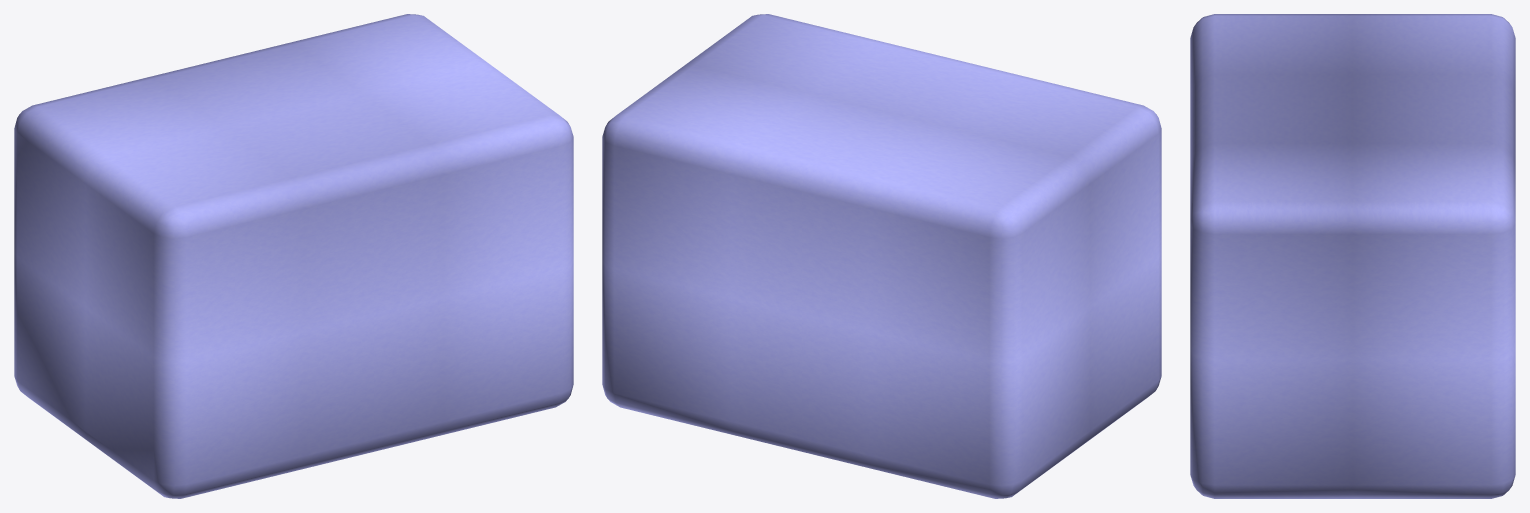
Rendered from __clay_block_01_4.obj.
3 renders of one model, left to right at view 1: azimuth 30°, elevation 25°; view 2: azimuth 150°, elevation 25°; view 3: azimuth 270°, elevation 25°, orthographic.
Parts seen in each view (by area): view 1: clay_block_4; view 2: clay_block_4; view 3: clay_block_4.
Part boxes in pixels (left/top/right/bottom): clay_block_4: left=14, top=14, right=573, bottom=498; clay_block_4: left=602, top=14, right=1161, bottom=498; clay_block_4: left=1190, top=14, right=1515, bottom=498.
Size of the model in its own units: 3 by 2 by 2.
Materials: 1 (1 with a texture image).
